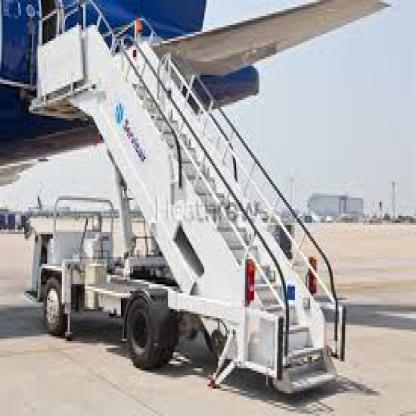boarding stairs: (30, 2, 348, 400)
